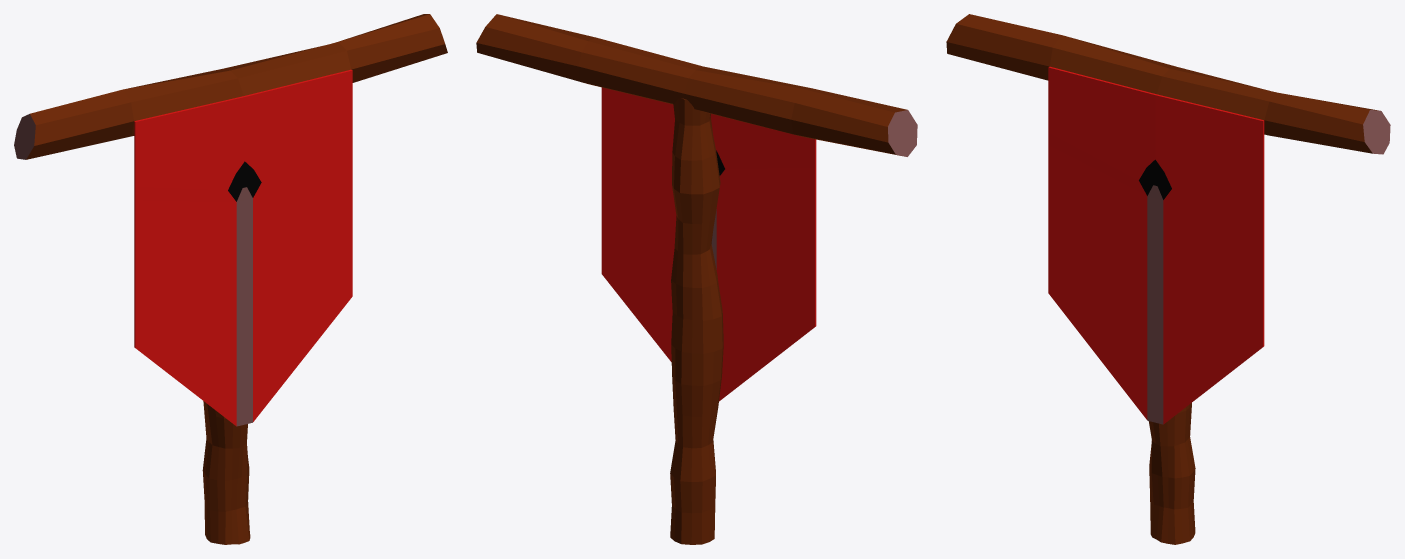
The model's file is Banner.fbx.
3 views of the same model, side by side, from view 1: azimuth 30°, elevation 25°; view 2: azimuth 150°, elevation 25°; view 3: azimuth 330°, elevation 25° (orthographic).
Visible parts, largest first — view 1: Banner, Legno Orizzontale, Legno Verticale; view 2: Banner, Legno Orizzontale, Legno Verticale; view 3: Banner, Legno Orizzontale, Legno Verticale.
Boxes of the visible parts, x1,y1,x2,y2 form: Banner: (134, 69, 352, 426); Legno Orizzontale: (14, 14, 447, 159); Legno Verticale: (202, 401, 250, 544); Banner: (601, 87, 816, 401); Legno Orizzontale: (476, 14, 917, 156); Legno Verticale: (670, 98, 723, 544); Banner: (1048, 66, 1264, 424); Legno Orizzontale: (946, 14, 1390, 154); Legno Verticale: (1148, 403, 1195, 544).
Bounding box in the file's own units: 198 × 211 × 24.47.
